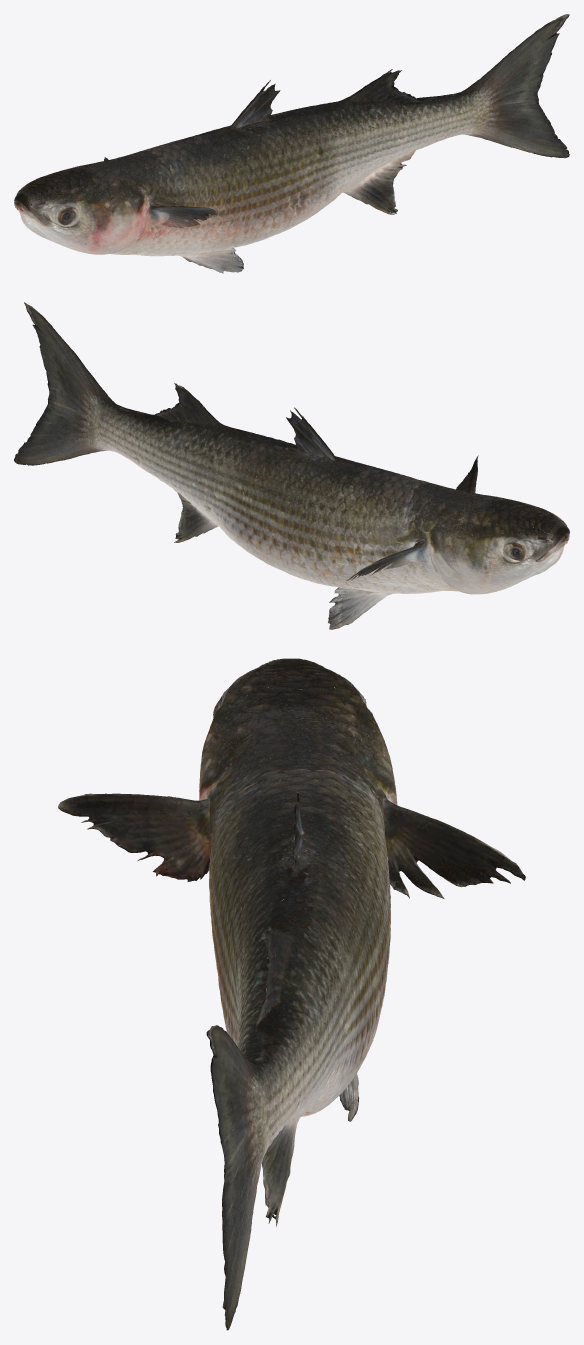
The model's file is scan_mullet.glb.
3 renders of one model, top to bottom at view 1: azimuth 30°, elevation 25°; view 2: azimuth 150°, elevation 25°; view 3: azimuth 270°, elevation 25°, orthographic. The views are drawn at different scales.
Visible parts, largest first — view 1: Object_4; view 2: Object_4; view 3: Object_4.
Boxes of the visible parts, x1=… form: Object_4: x1=14, y1=14, x2=569, y2=273; Object_4: x1=14, y1=302, x2=569, y2=629; Object_4: x1=58, y1=658, x2=525, y2=1330.
Bounding box in the file's own units: 18.86 × 6.81 × 7.13.
Materials: 1 (1 with a texture image).
